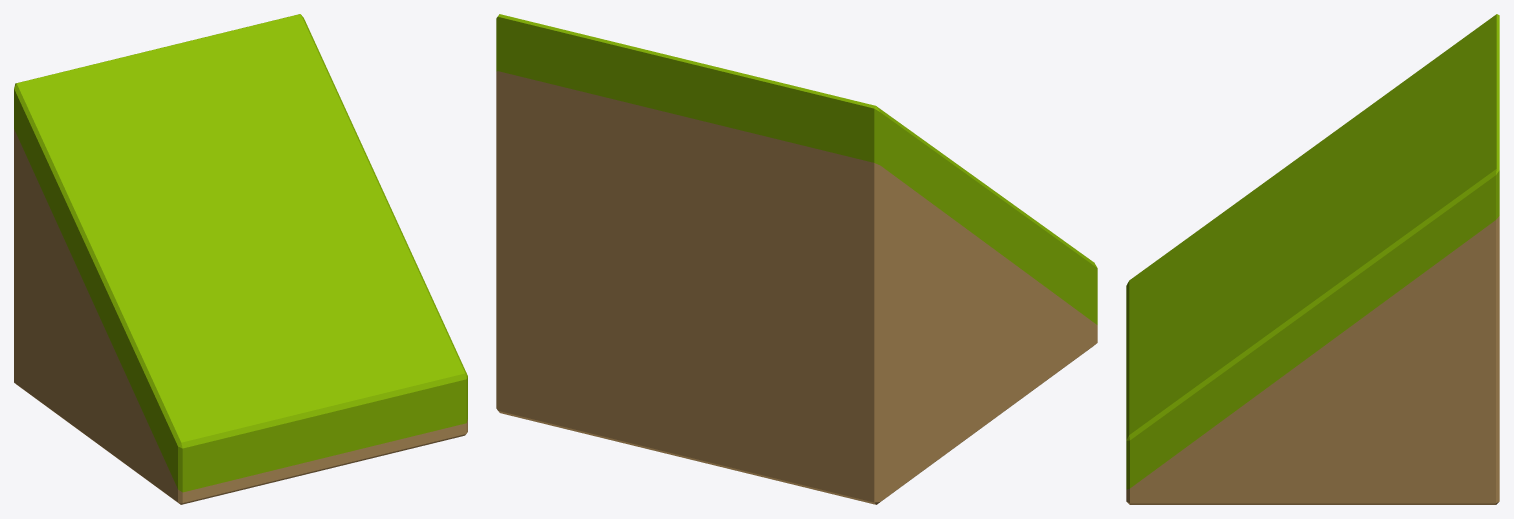
Rendered from HJD_FP_ramp01.fbx.
3 renders of one model, left to right at view 1: azimuth 30°, elevation 25°; view 2: azimuth 150°, elevation 25°; view 3: azimuth 270°, elevation 25°, orthographic. The views are drawn at different scales.
Visible parts, largest first — view 1: transform_unity_scale17; view 2: transform_unity_scale17; view 3: transform_unity_scale17.
Boxes of the visible parts, left/top/right/bottom form: transform_unity_scale17: left=14, top=14, right=467, bottom=504; transform_unity_scale17: left=496, top=14, right=1097, bottom=504; transform_unity_scale17: left=1126, top=14, right=1499, bottom=504.
Bounding box in the file's own units: 100 × 99.38 × 100.
